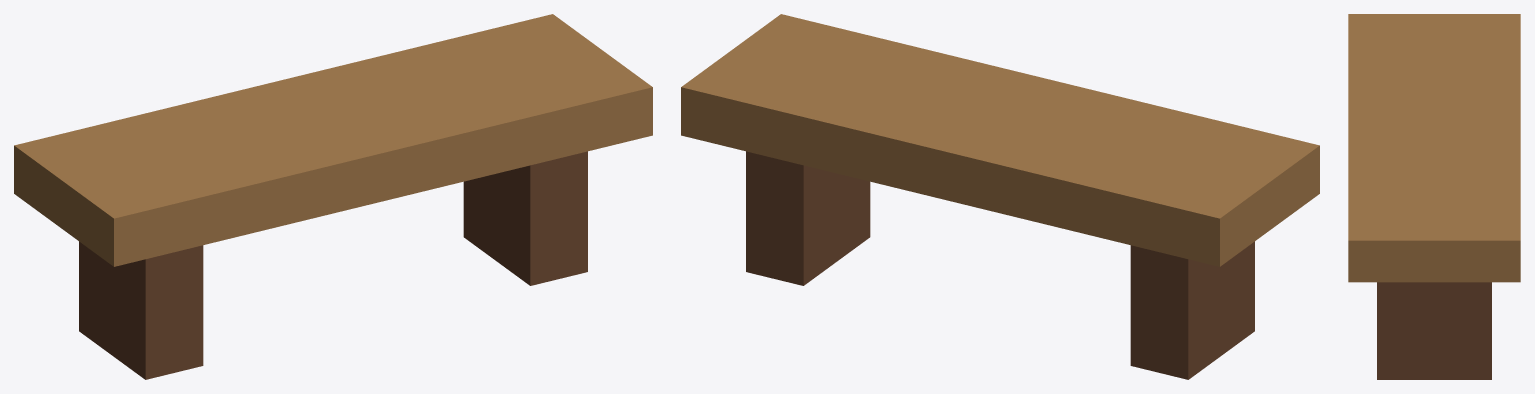
Rendered from bench.glb.
3 renders of one model, left to right at view 1: azimuth 30°, elevation 25°; view 2: azimuth 150°, elevation 25°; view 3: azimuth 270°, elevation 25°, orthographic. The views are drawn at different scales.
Parts seen in each view (by area): view 1: seat, leg (×2); view 2: seat, leg (×2); view 3: seat, leg.
Part boxes in pixels (<box>): seat: <box>14,14,652,266</box>; leg (×2): <box>79,151,587,379</box>; seat: <box>681,14,1319,266</box>; leg (×2): <box>746,151,1254,379</box>; seat: <box>1348,14,1520,282</box>; leg: <box>1377,282,1491,379</box>.
Size of the model in its own units: 1.4 by 0.46 by 0.45.
